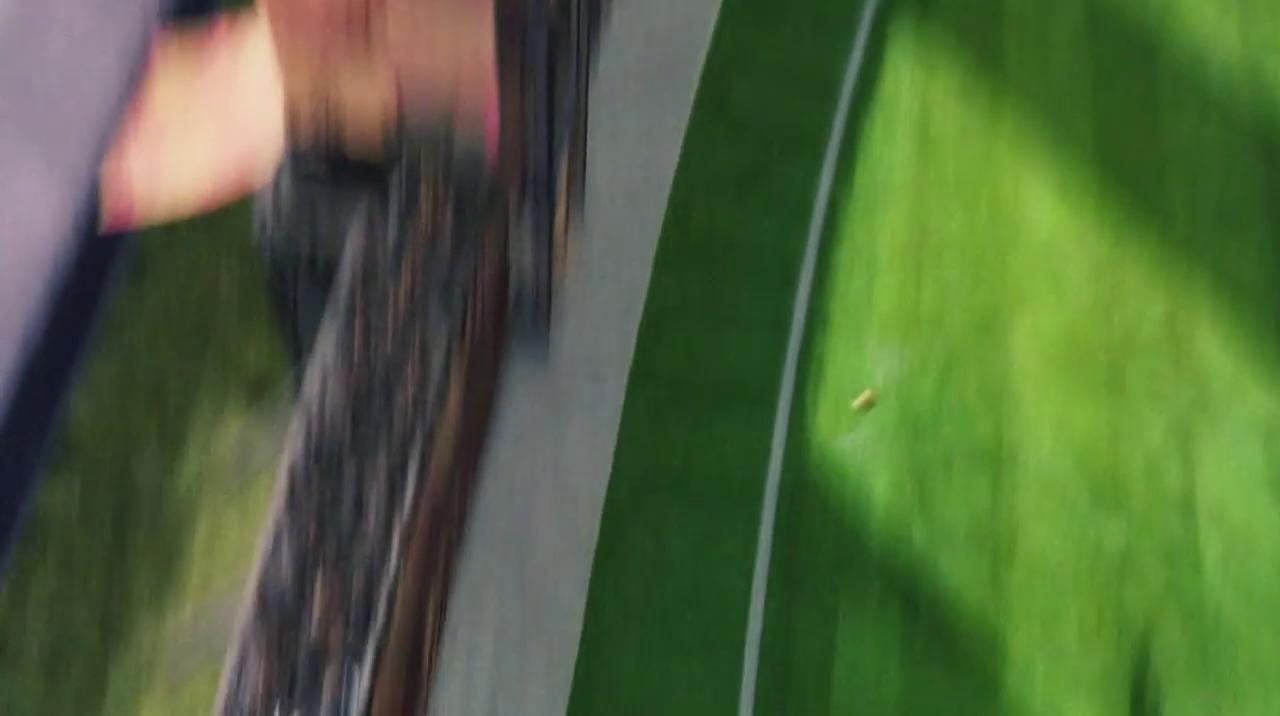snitch: (848, 386, 877, 415)
